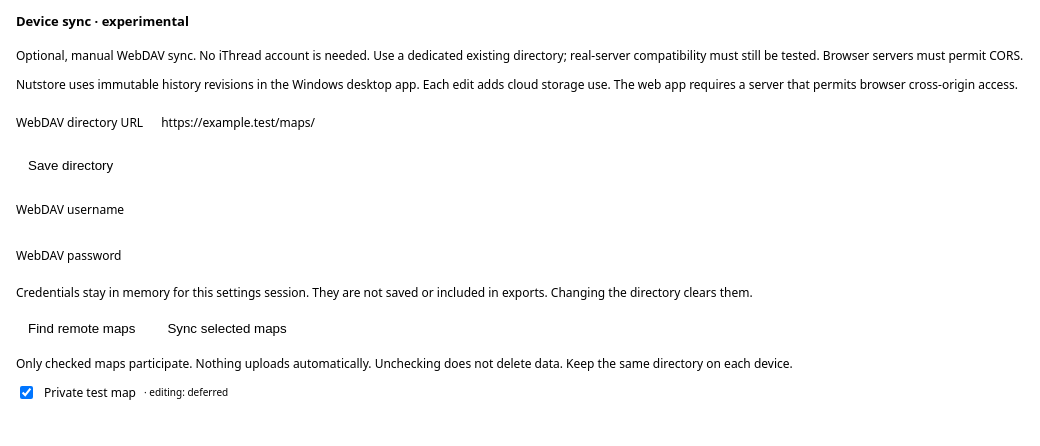
Test case: manual sync settings › defers the active editor without making a network request
Click the button "Sync selected maps": point(227, 328) [155, 313, 299, 344]
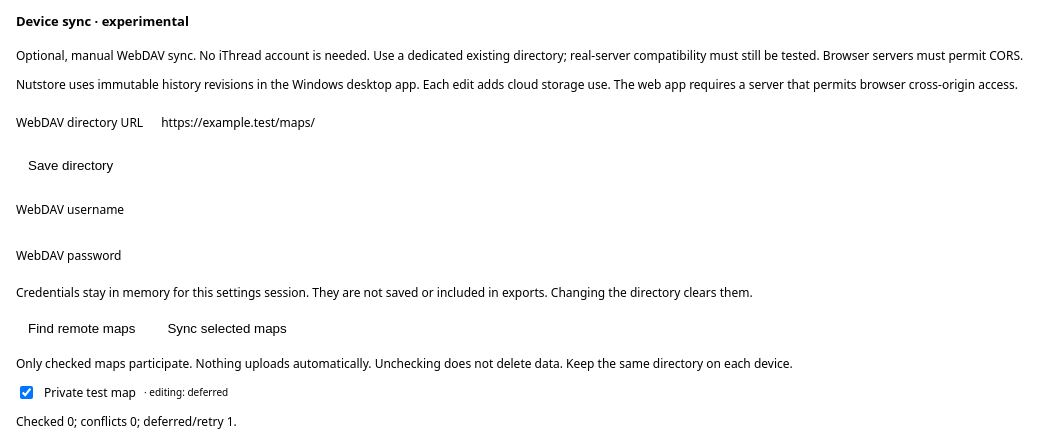
Expected: the text "Checked 0; conflicts 0; deferred/retry 1." is shown, [16, 413, 237, 430]
